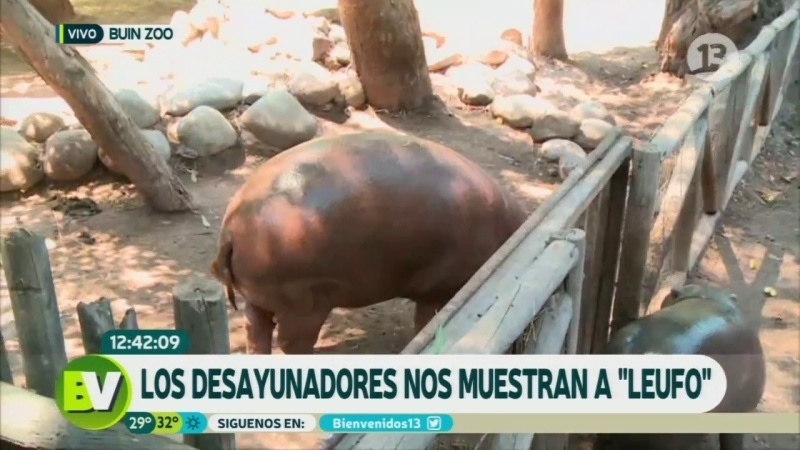hipopotamo: (186, 118, 573, 354)
